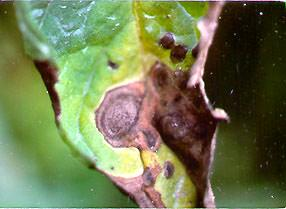Tomato Early blight leaf: (13, 2, 230, 208)
